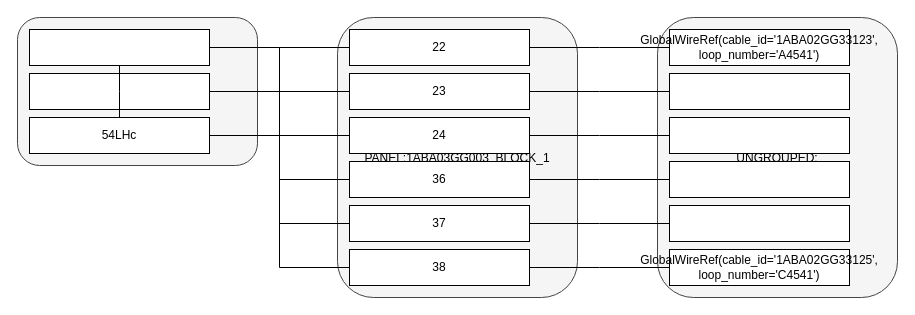
The diagram is 915 pixels wide and 315 high, and some of its shapes have lost their labels. Each missing label, with the centre of its shape:
54LHa: point 119,47
54LHb: point 119,91
GlobalWireRef(cable_id='1ABA02GG33123', loop_number='B4541'): point 759,91
GlobalWireRef(cable_id='1ABA02GG33123', loop_number='C4541'): point 759,135
GlobalWireRef(cable_id='1ABA02GG33125', loop_number='A4541'): point 759,179
GlobalWireRef(cable_id='1ABA02GG33125', loop_number='B4541'): point 759,223
